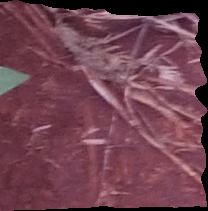soil: (1, 1, 207, 210)
